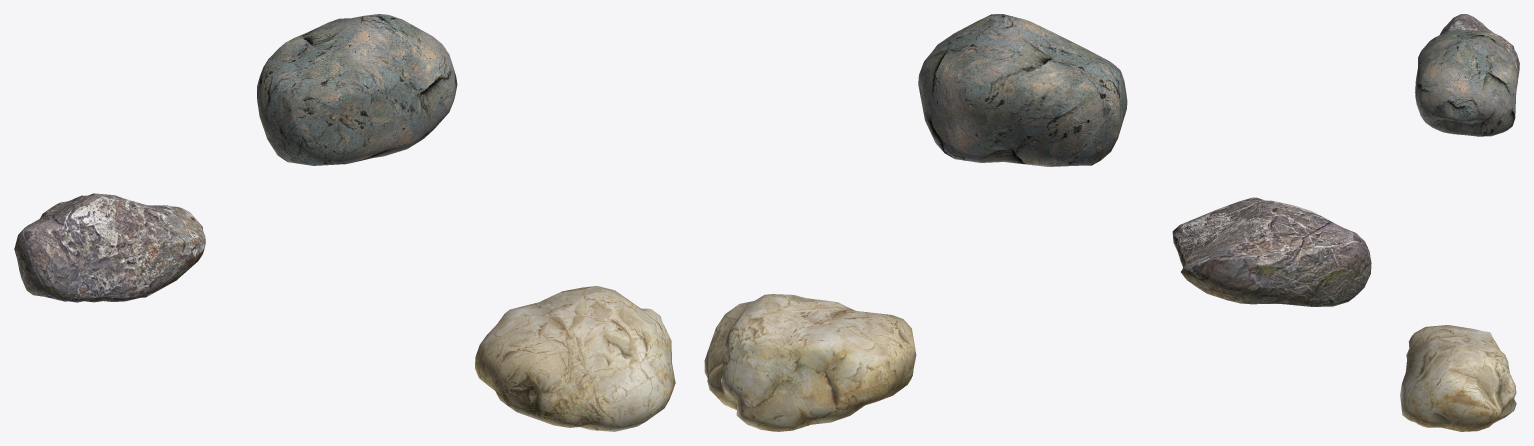
Rendered from rocks2new.fbx.
3 views of the same model, side by side, from view 1: azimuth 30°, elevation 25°; view 2: azimuth 150°, elevation 25°; view 3: azimuth 270°, elevation 25° (orthographic). The views are drawn at different scales.
Visible parts, largest first — view 1: rock03, rock20, rock14; view 2: rock03, rock20, rock14; view 3: rock20, rock03, rock14.
Part boxes in pixels (x1,y1,x2,y2): rock03: (257,14,457,165); rock20: (475,286,675,431); rock14: (14,193,205,302); rock03: (918,14,1127,166); rock20: (704,294,916,431); rock14: (1172,197,1371,306); rock20: (1400,325,1516,431); rock03: (1415,29,1517,136); rock14: (1440,14,1519,78).
Bounding box in the file's own units: 281 × 188 × 66.
3 materials, 3 textured.
